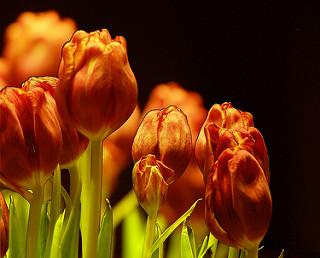tulip: (57, 28, 137, 139), (205, 147, 273, 251), (0, 84, 64, 191), (134, 104, 193, 187)
